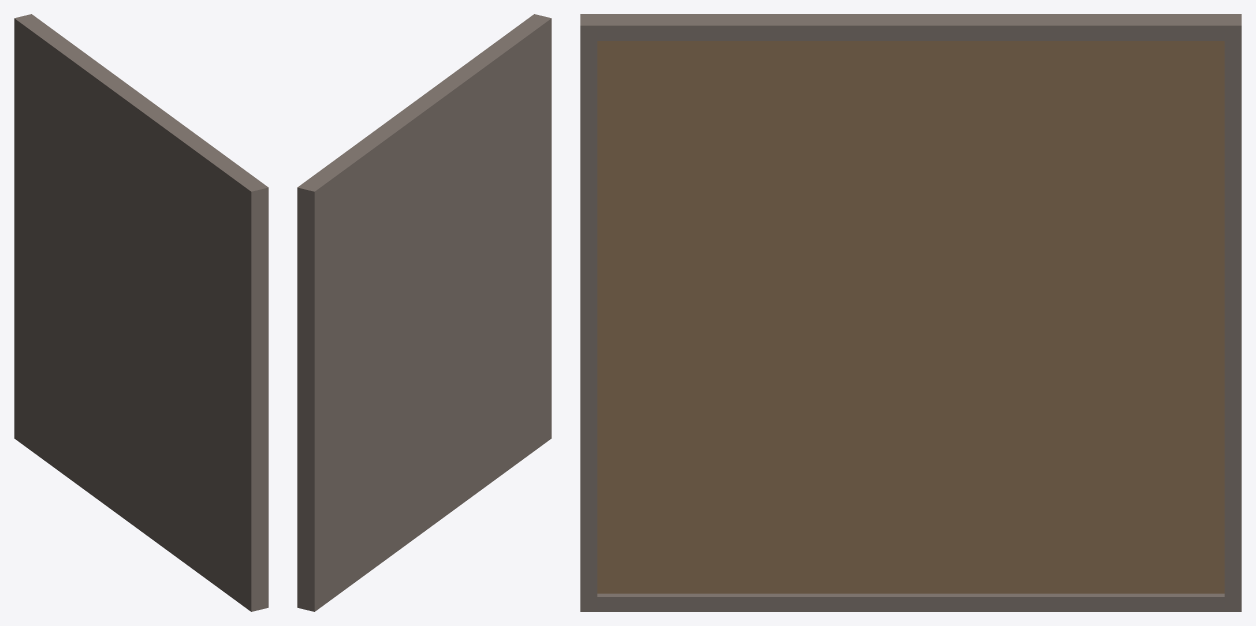
File: dashboard.gltf
3 renders of one model, left to right at view 1: azimuth 30°, elevation 25°; view 2: azimuth 150°, elevation 25°; view 3: azimuth 270°, elevation 25°, orthographic. The views are drawn at different scales.
Parts seen in each view (by area): view 1: Dashboard.001; view 2: Dashboard.001; view 3: Dashboard.001.
Part boxes in pixels (bbox=[...]): Dashboard.001: bbox=[14, 14, 268, 611]; Dashboard.001: bbox=[297, 14, 551, 611]; Dashboard.001: bbox=[580, 14, 1241, 611].
Bounding box in the file's own units: 0.1397 × 3.23 × 3.3.
